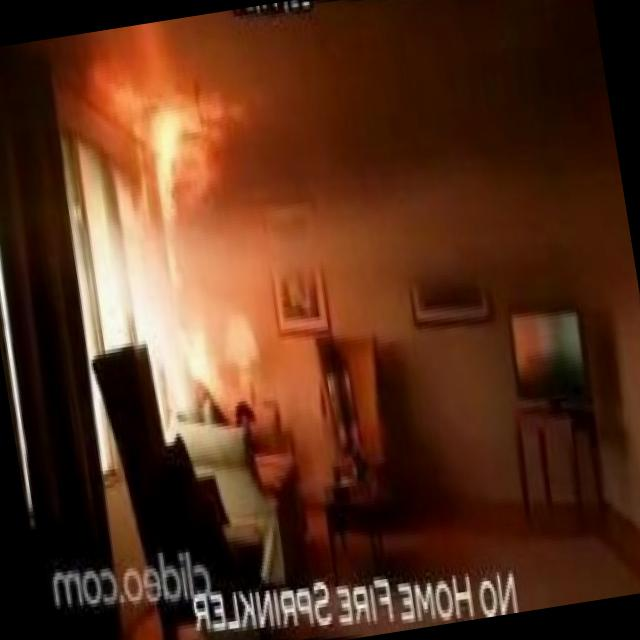fire: (65, 9, 294, 423)
